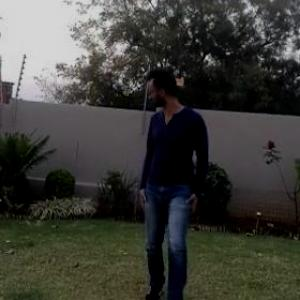follow: (126, 50, 215, 296)
